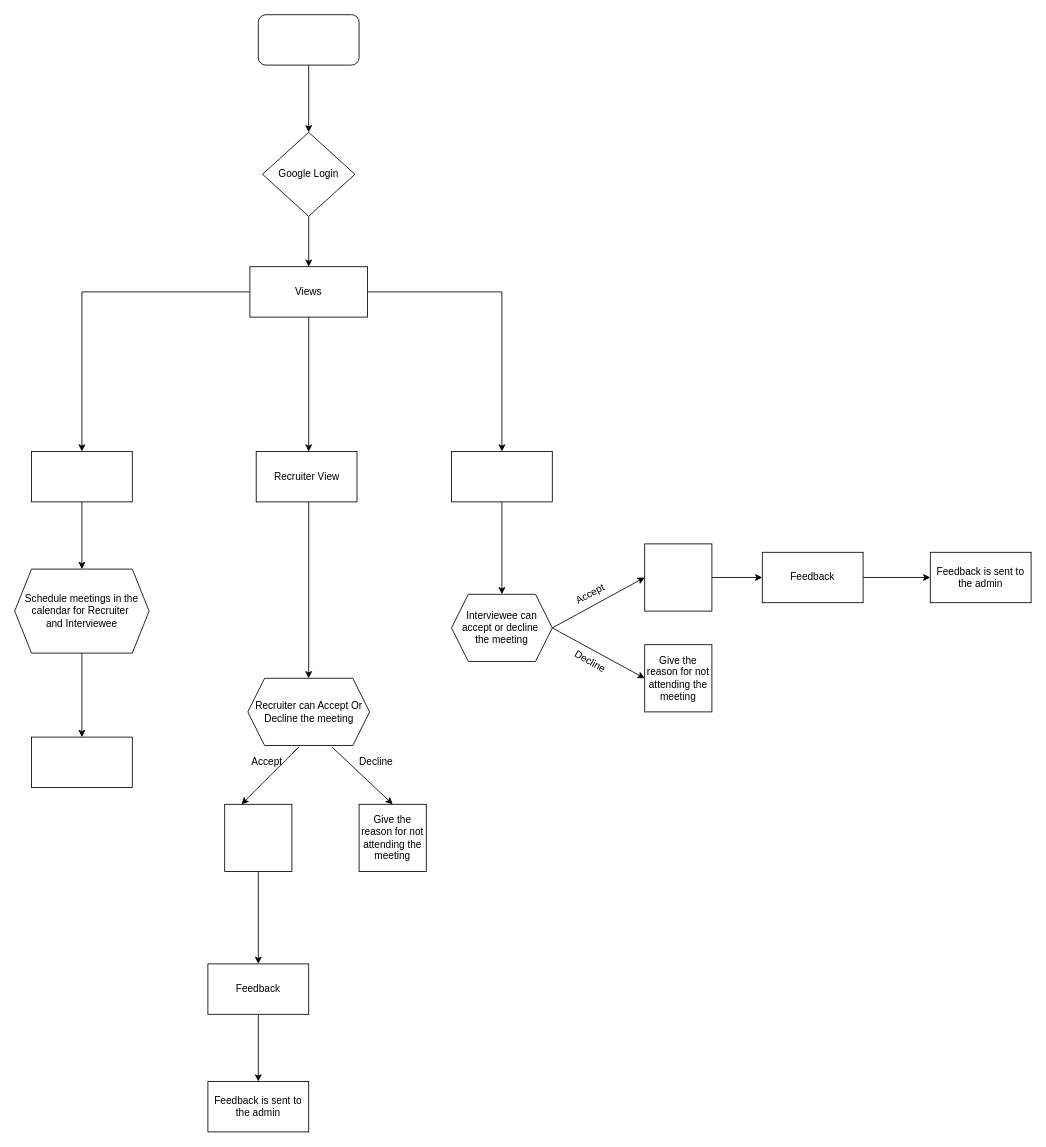
The diagram is 1046 pixels wide and 1147 high, and some of its shapes have lost their labels. Here are the shapes that lost their labels. From the top down, the centre of each, then its label:
At point (308, 39): "Interview Scheduler".
At point (81, 476): "Admin View".
At point (501, 476): "Interviewee View".
At point (678, 577): "Gives the interview".
At point (81, 762): "Sends the invite to recruiter and interviewee".
At point (258, 837): "Recruiter takes the interview".
